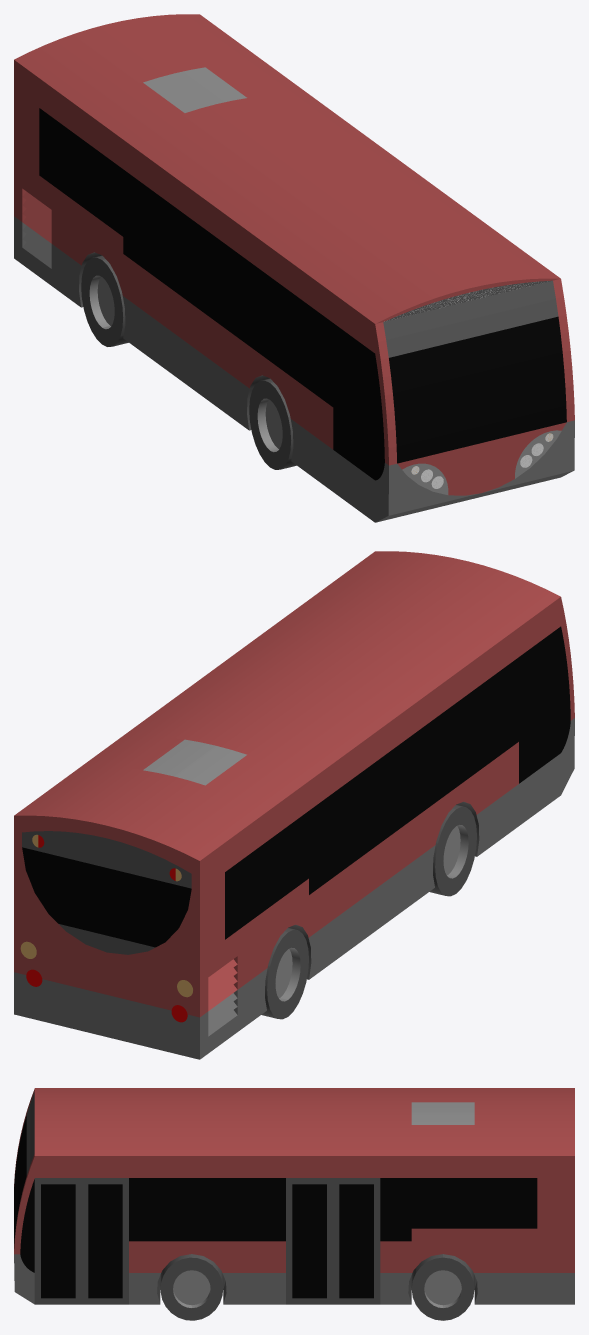
The model's file is dennis-enviro200.dae.
The picture shows the model from 3 angles, top to bottom: view 1: azimuth 30°, elevation 25°; view 2: azimuth 150°, elevation 25°; view 3: azimuth 270°, elevation 25°; orthographic projection. The views are drawn at different scales.
Parts seen in each view (by area): view 1: SketchUp_002, SketchUp_018, SketchUp_032, SketchUp_033, SketchUp_017, SketchUp_042, SketchUp, SketchUp_039, SketchUp_003, SketchUp_022, SketchUp_019, SketchUp_021 (+2 smaller); view 2: SketchUp_002, SketchUp_018, SketchUp_003, SketchUp_016, SketchUp_042, SketchUp, SketchUp_033, SketchUp_009, SketchUp_022, SketchUp_015, SketchUp_019, SketchUp_021; view 3: SketchUp_002, SketchUp, SketchUp_025, SketchUp_014, SketchUp_041, SketchUp_029, SketchUp_036, SketchUp_050, SketchUp_051, SketchUp_003, SketchUp_027, SketchUp_022 (+8 smaller).
Boxes of the visible parts, x1,y1,x2,y2 form: SketchUp_002: (14,14,574,465); SketchUp_018: (39,108,384,480); SketchUp_032: (389,316,566,463); SketchUp_033: (290,419,574,522); SketchUp_017: (383,280,558,357); SketchUp_042: (122,296,249,429); SketchUp: (79,252,296,469); SketchUp_039: (397,422,566,495); SketchUp_003: (14,216,81,306); SketchUp_022: (143,67,246,112); SketchUp_019: (89,275,114,329); SketchUp_021: (257,398,282,452); SketchUp_002: (14,551,574,1017); SketchUp_018: (225,626,570,939); SketchUp_003: (14,968,267,1059); SketchUp_016: (22,847,191,947); SketchUp_042: (308,845,435,979); SketchUp: (261,801,479,1019); SketchUp_033: (476,718,574,856); SketchUp_009: (22,831,191,888); SketchUp_022: (143,739,246,785); SketchUp_015: (59,924,155,954); SketchUp_019: (275,947,300,1001); SketchUp_021: (443,825,468,878); SketchUp_002: (14,1088,574,1272); SketchUp: (34,1178,477,1320); SketchUp_025: (129,1178,285,1241); SketchUp_014: (380,1178,537,1241); SketchUp_041: (129,1241,285,1272); SketchUp_029: (41,1184,75,1298); SketchUp_036: (88,1184,122,1298); SketchUp_050: (292,1184,326,1298); SketchUp_051: (339,1184,373,1298); SketchUp_003: (474,1273,574,1304); SketchUp_027: (222,1273,285,1304); SketchUp_022: (411,1102,474,1124).
Bounding box in the file's own units: 1.81 × 6.33 × 2.17.
